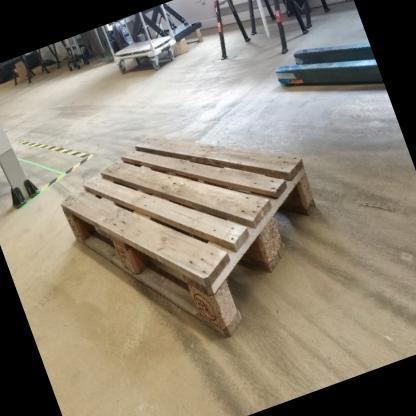pallet: (60, 128, 320, 346)
